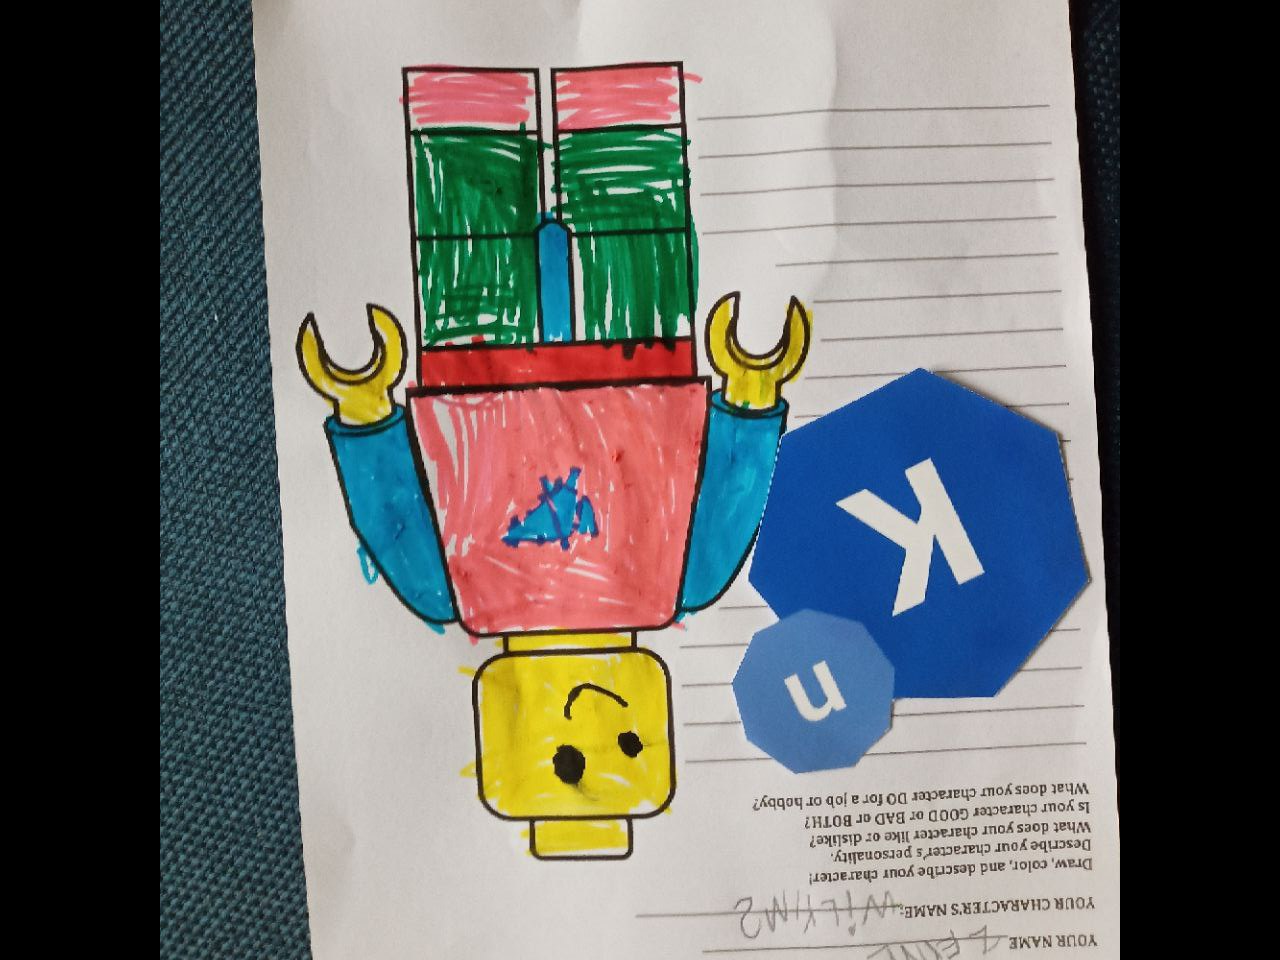knative: (730, 366, 1092, 776)
